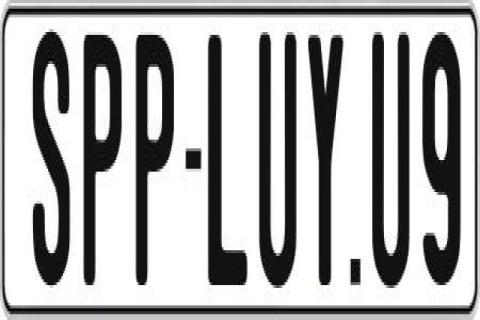0: (419, 29, 462, 299)
L: (207, 32, 251, 282)
P: (81, 35, 121, 299), (134, 32, 174, 291)
S: (30, 29, 73, 282)
U: (257, 35, 298, 294), (370, 32, 408, 294)
Y: (306, 26, 344, 288)
